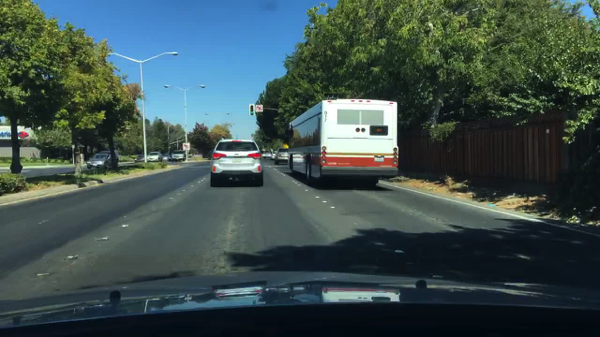bus: (287, 98, 399, 184)
car: (210, 137, 264, 188), (87, 151, 119, 170), (274, 148, 290, 166), (147, 151, 163, 162), (171, 151, 186, 162), (134, 155, 145, 163), (207, 149, 213, 160), (264, 150, 272, 158), (161, 154, 169, 162), (270, 151, 277, 160), (260, 151, 266, 158), (168, 153, 172, 162)
traffic light: (249, 104, 254, 116)
traffic sign: (182, 143, 191, 150), (255, 104, 262, 111)
